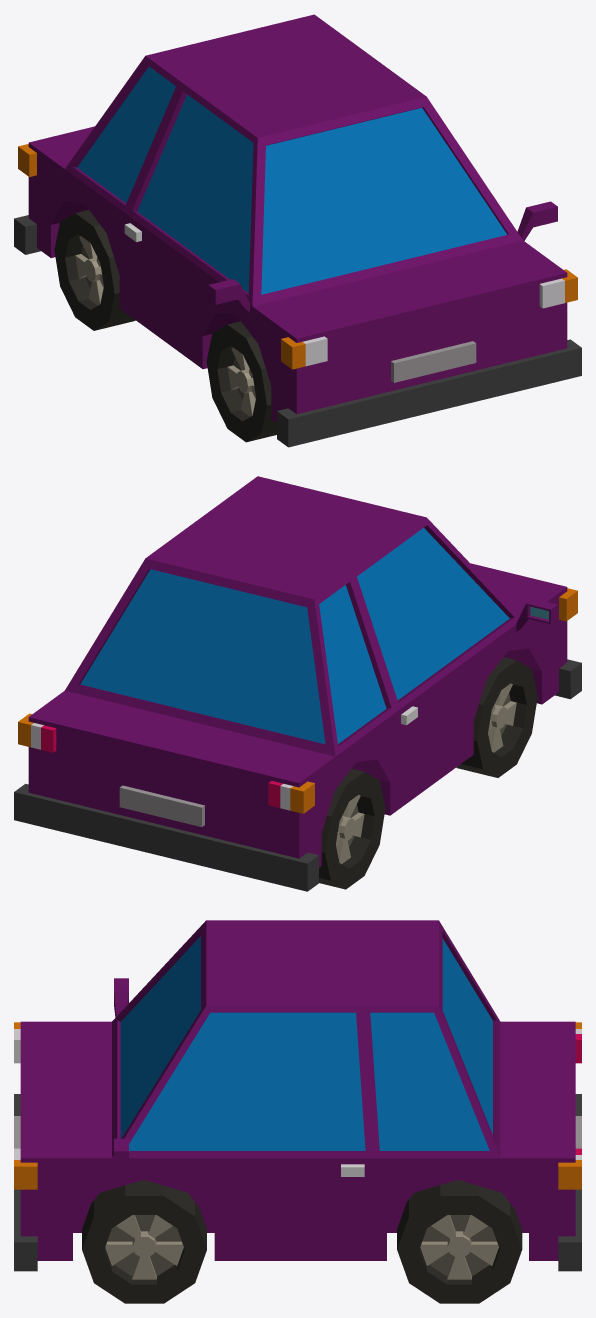
Rendered from car_7.fbx.
The picture shows the model from 3 angles, top to bottom: view 1: azimuth 30°, elevation 25°; view 2: azimuth 150°, elevation 25°; view 3: azimuth 270°, elevation 25°; orthographic projection. The views are drawn at different scales.
Visible parts, largest first — view 1: car_7; view 2: car_7; view 3: car_7.
Part boxes in pixels (x1,y1,x2,y2): car_7: (14,14,581,447); car_7: (14,476,581,891); car_7: (14,920,581,1303).
Bounding box in the file's own units: 253 × 186 × 351.
